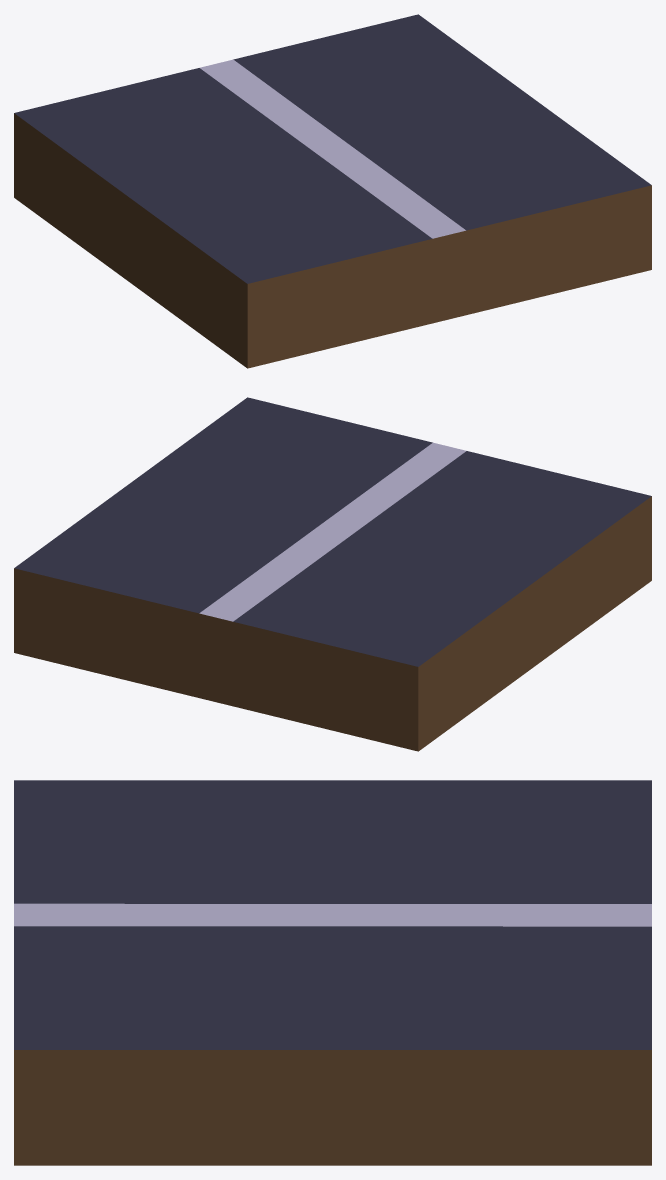
The model's file is road_1_car_line.fbx.
3 renders of one model, top to bottom at view 1: azimuth 30°, elevation 25°; view 2: azimuth 150°, elevation 25°; view 3: azimuth 270°, elevation 25°, orthographic. The views are drawn at different scales.
Visible parts, largest first — view 1: Cube.043; view 2: Cube.043; view 3: Cube.043.
Part boxes in pixels (bbox=[...]): Cube.043: bbox=[14, 14, 651, 368]; Cube.043: bbox=[14, 397, 651, 751]; Cube.043: bbox=[14, 780, 651, 1165].
Bounding box in the file's own units: 1000 × 200 × 1000.
1 material, 1 textured.
